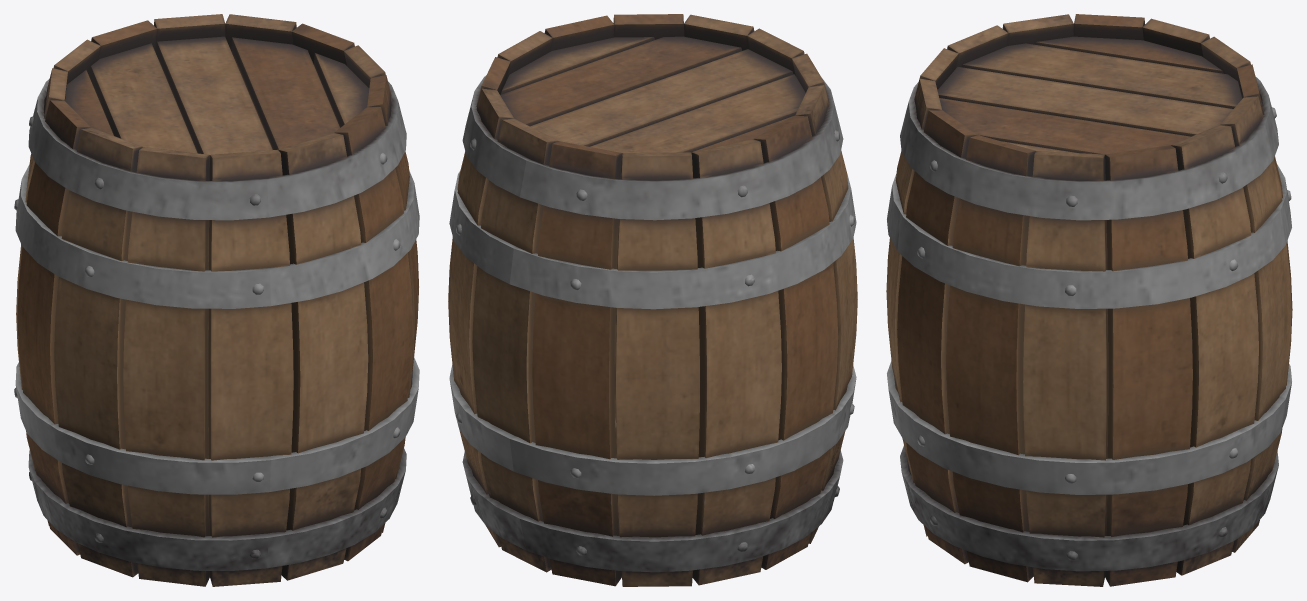
Rendered from Barrel.glb.
3 renders of one model, left to right at view 1: azimuth 30°, elevation 25°; view 2: azimuth 150°, elevation 25°; view 3: azimuth 270°, elevation 25°, orthographic.
Parts seen in each view (by area): view 1: Barrel; view 2: Barrel; view 3: Barrel.
Boxes of the visible parts, x1,y1,x2,y2 form: Barrel: (14, 14, 419, 586); Barrel: (448, 14, 857, 586); Barrel: (886, 14, 1292, 586).
Bounding box in the file's own units: 1.96 × 2.28 × 1.96.
Materials: 1 (1 with a texture image).
